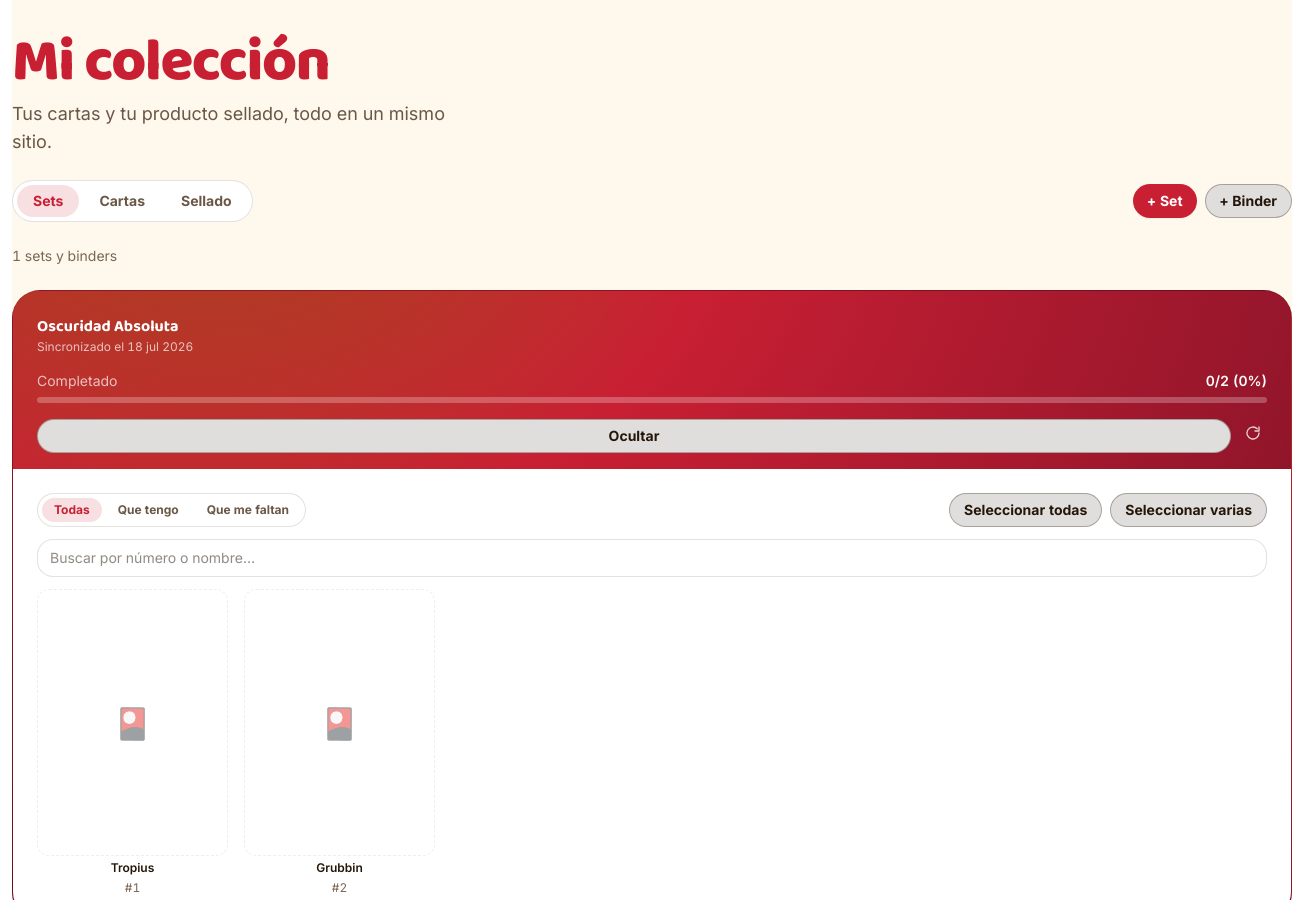
Test: ColeccionScreen › en Sets, el buscador local filtra por número o nombre dentro del set
Click the button "Sets" at [48, 201], box [17, 185, 79, 217]
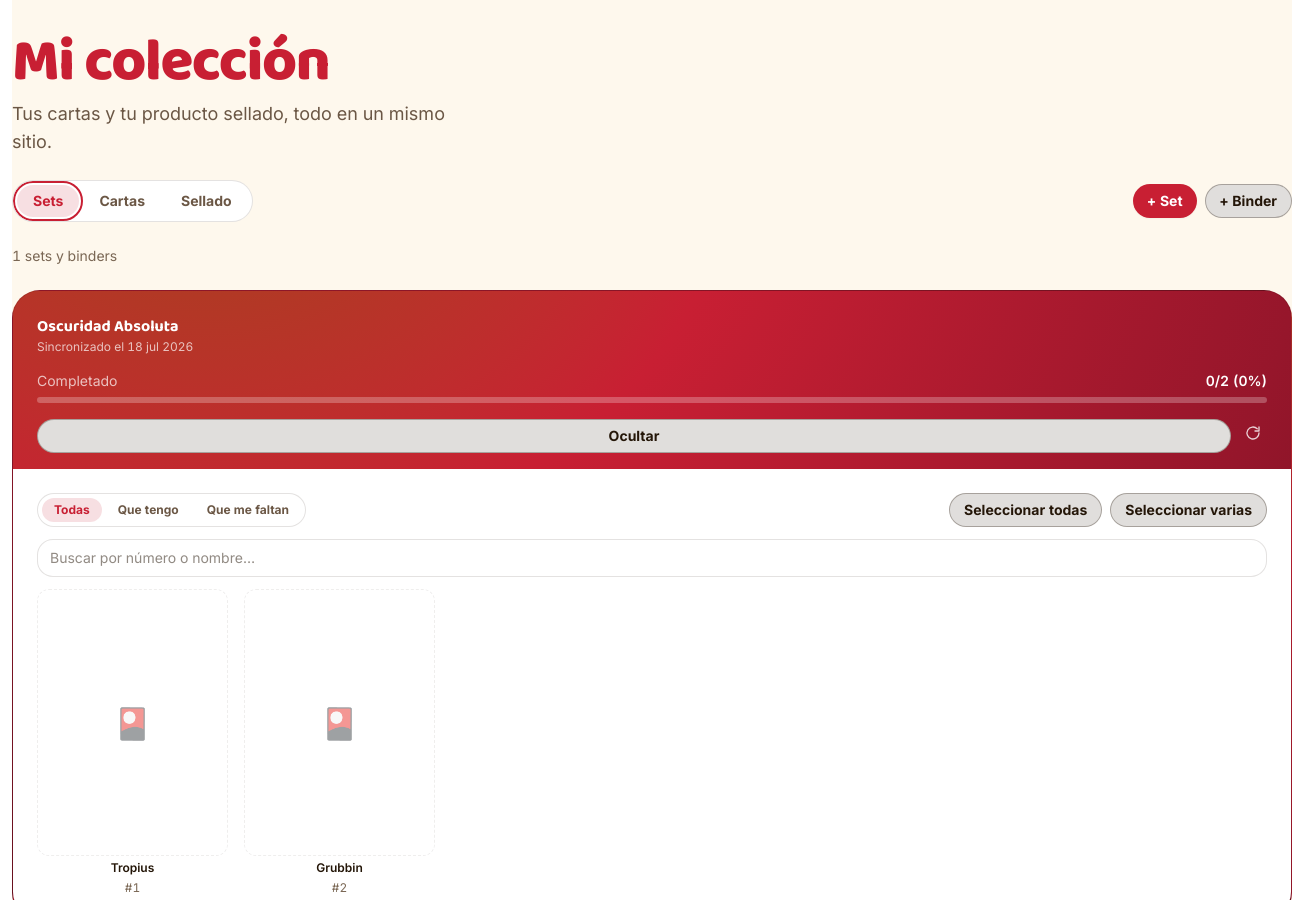
// Incompleto (0 de 2): ya está abierto por defecto.
Type "grub" into the field with placeholder "Buscar por número o nombre…" at [652, 558], box [37, 539, 1267, 577]
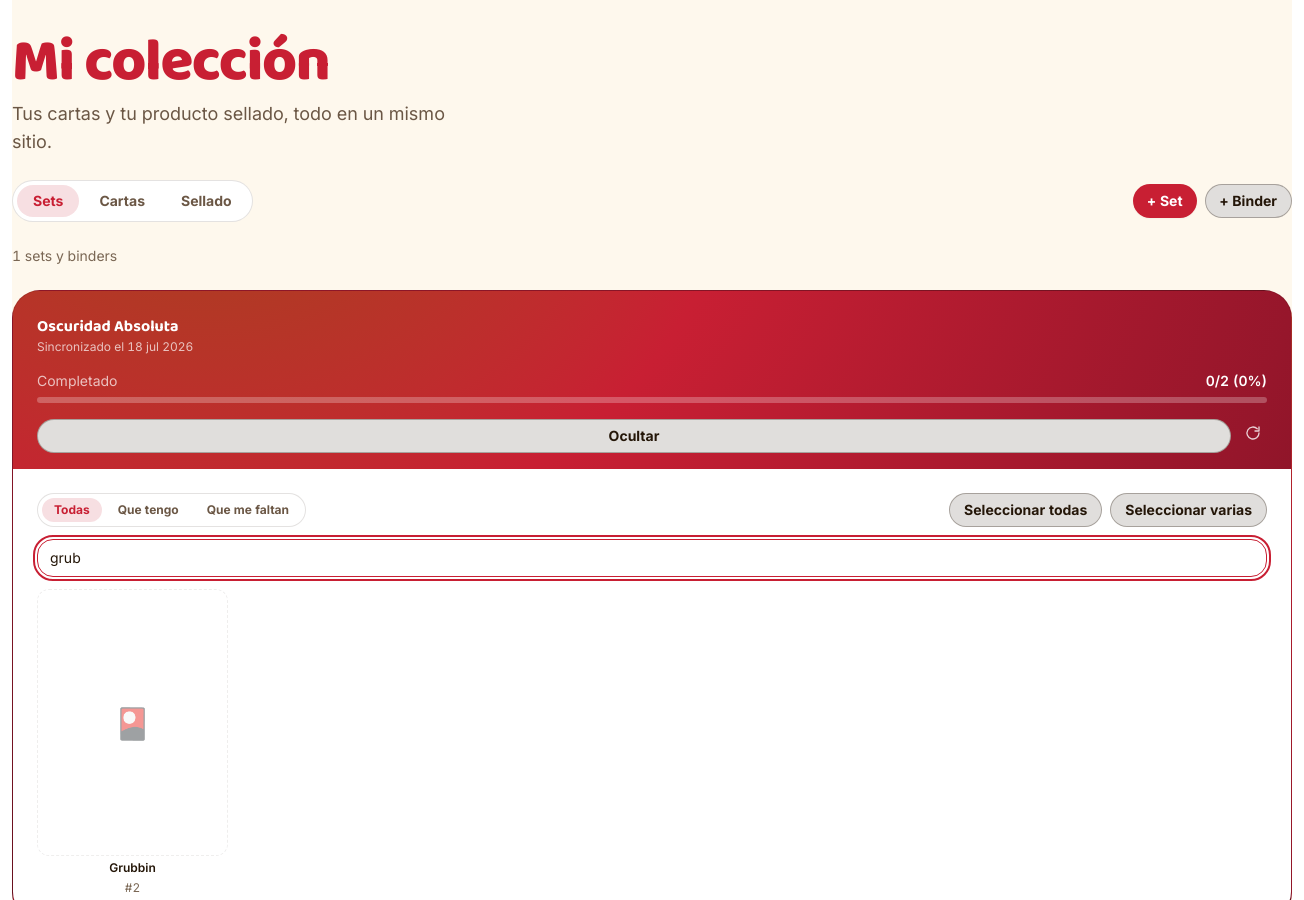
Expected: the text "Grubbin" is shown, [109, 860, 156, 875]
Expected: the text "Tropius" is gone
